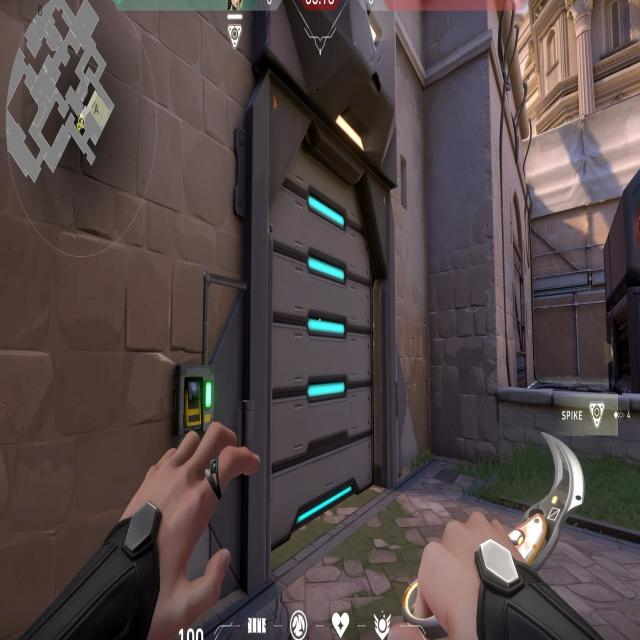A_Door: (255, 42, 405, 590)
A_Heaven_Wall: (520, 99, 640, 297)
